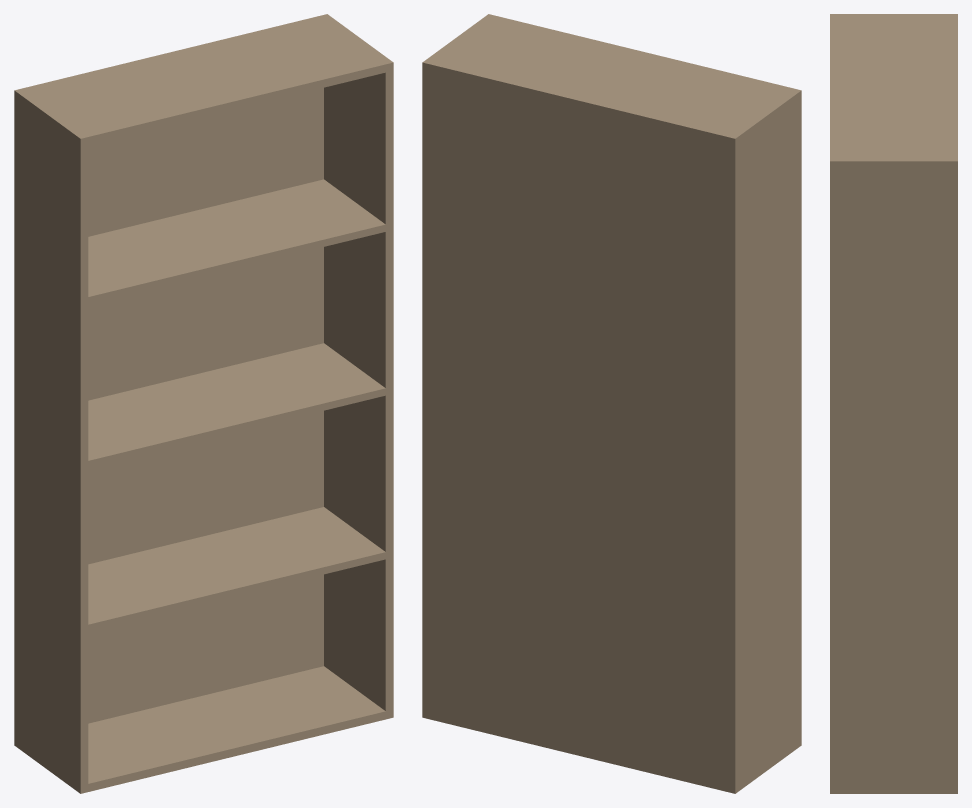
File: bookshelf.glb
The picture shows the model from 3 angles, left to right: view 1: azimuth 30°, elevation 25°; view 2: azimuth 150°, elevation 25°; view 3: azimuth 270°, elevation 25°; orthographic projection. The views are drawn at different scales.
Visible parts, largest first — view 1: case, shelf1, shelf0, shelf2; view 2: case; view 3: case.
Boxes of the visible parts, x1,y1,x2,y2 form: case: (14,14,393,793); shelf1: (88,343,385,467); shelf0: (88,507,385,631); shelf2: (88,179,385,304); case: (422,14,801,793); case: (830,14,957,793).
Size of the model in its own units: 0.9144 by 1.83 by 0.3353.
